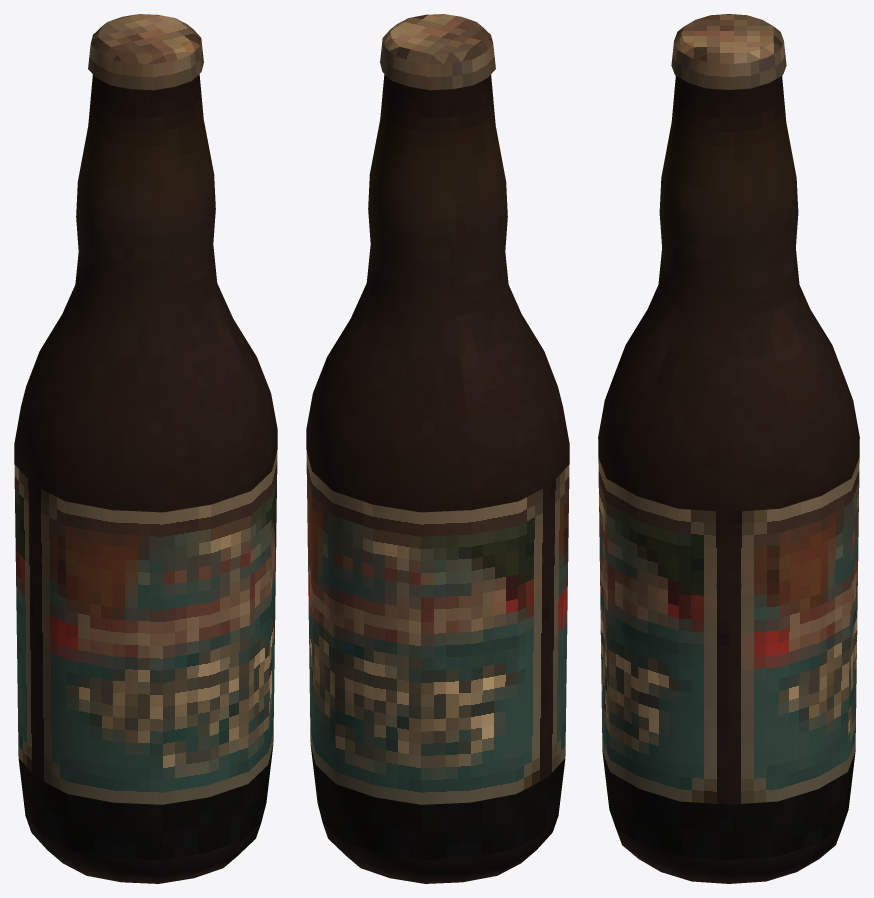
The model's file is glass_bottle_2.obj.
3 renders of one model, left to right at view 1: azimuth 30°, elevation 25°; view 2: azimuth 150°, elevation 25°; view 3: azimuth 270°, elevation 25°, orthographic.
Visible parts, largest first — view 1: glass_bottle_2; view 2: glass_bottle_2; view 3: glass_bottle_2.
Boxes of the visible parts, bbox=[...] form: glass_bottle_2: bbox=[14, 14, 277, 883]; glass_bottle_2: bbox=[306, 14, 569, 883]; glass_bottle_2: bbox=[598, 14, 859, 883].
Size of the model in its own units: 0.1152 by 0.3931 by 0.1152.
